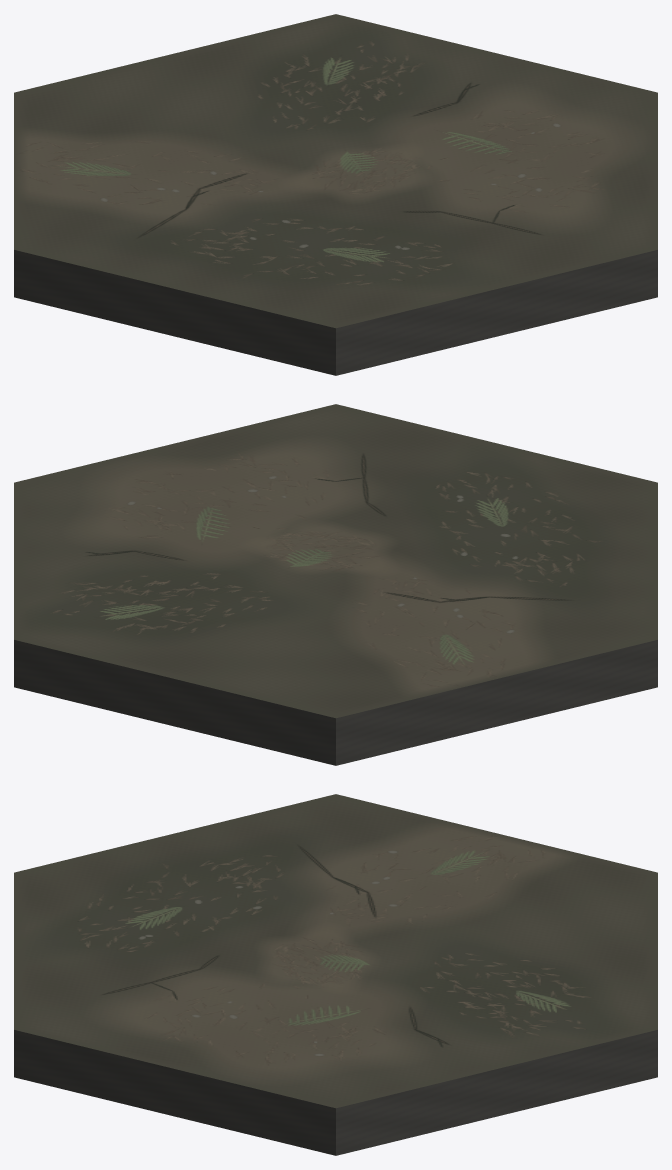
File: hex_ground_pine_duff.glb
3 views of the same model, one above another, from view 1: azimuth 30°, elevation 25°; view 2: azimuth 150°, elevation 25°; view 3: azimuth 270°, elevation 25° (orthographic).
Visible parts, largest first — view 1: Painted occupation surface, Canonical hex foundation; view 2: Painted occupation surface, Canonical hex foundation; view 3: Painted occupation surface, Canonical hex foundation.
Boxes of the visible parts, x1,y1,x2,y2 form: Painted occupation surface: (14,14,657,328); Canonical hex foundation: (14,250,657,375); Painted occupation surface: (14,404,657,718); Canonical hex foundation: (14,640,657,765); Painted occupation surface: (14,794,657,1108); Canonical hex foundation: (14,1030,657,1155).
Size of the model in its own units: 5.1 by 0.36 by 4.42.
2 materials, 2 textured.
